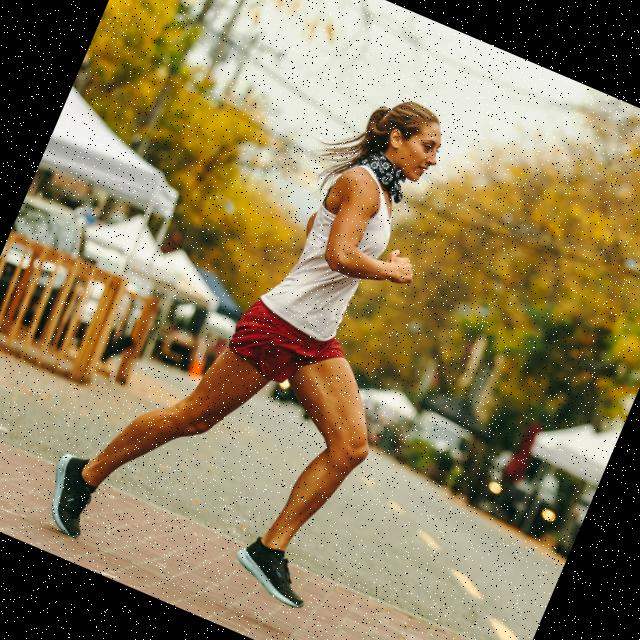Person: (34, 27, 502, 631)
